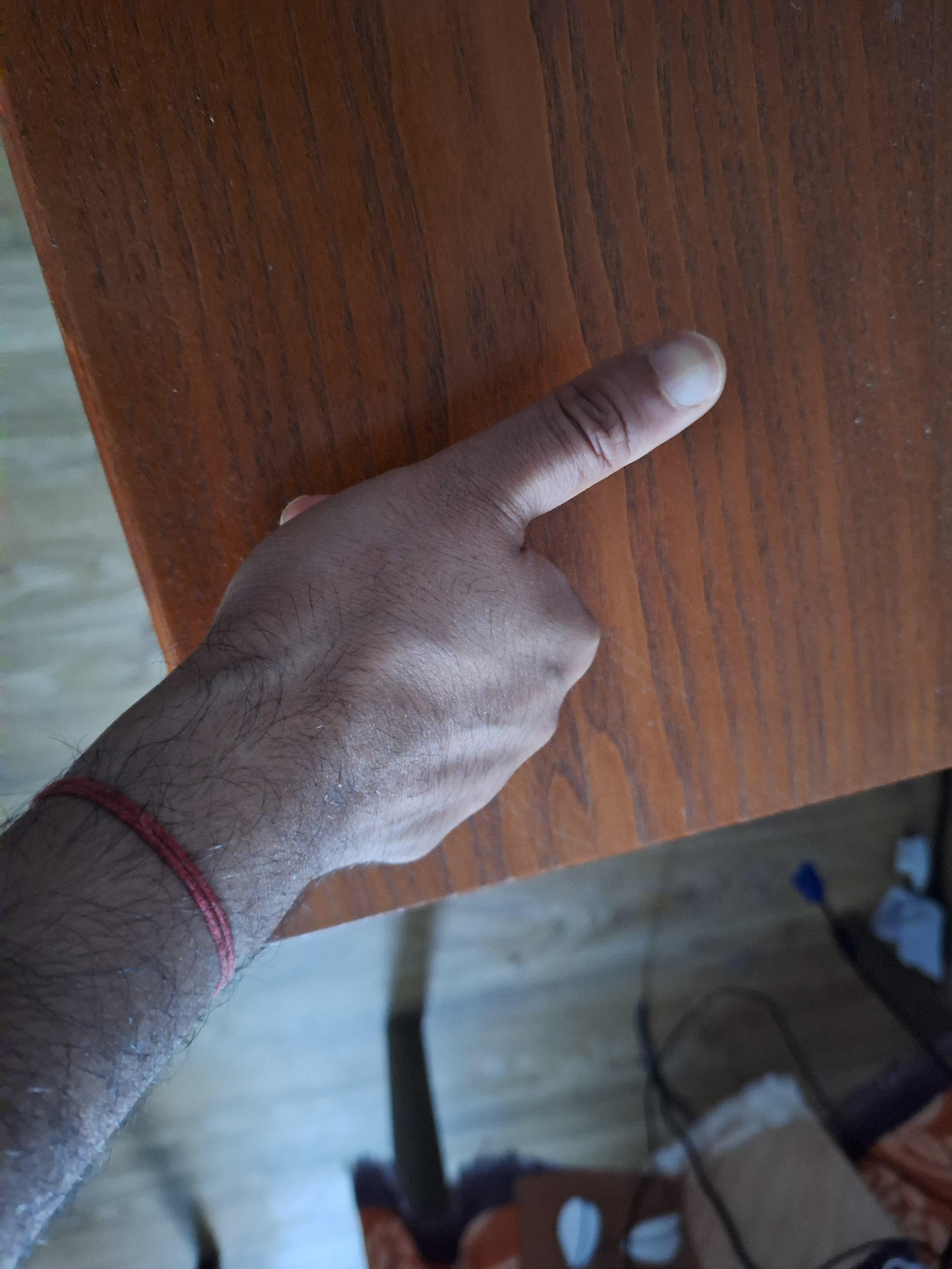Fingernail: (649, 332, 720, 405)
